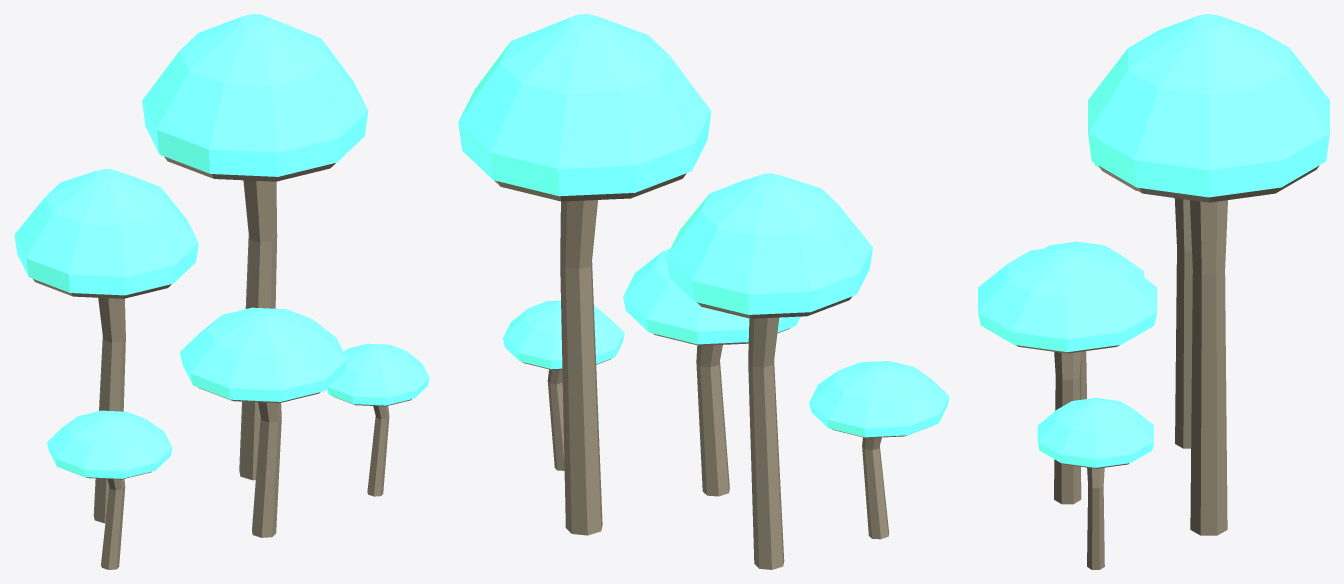
The model's file is Luminous_Mushrooms.glb.
3 views of the same model, side by side, from view 1: azimuth 30°, elevation 25°; view 2: azimuth 150°, elevation 25°; view 3: azimuth 270°, elevation 25° (orthographic). The views are drawn at different scales.
Visible parts, largest first — view 1: Luminous_Mushrooms; view 2: Luminous_Mushrooms; view 3: Luminous_Mushrooms.
Boxes of the visible parts, x1,y1,x2,y2 form: Luminous_Mushrooms: [14, 14, 429, 569]; Luminous_Mushrooms: [458, 14, 949, 569]; Luminous_Mushrooms: [978, 14, 1329, 569].
Size of the model in its own units: 1.03 by 1.19 by 0.747.
